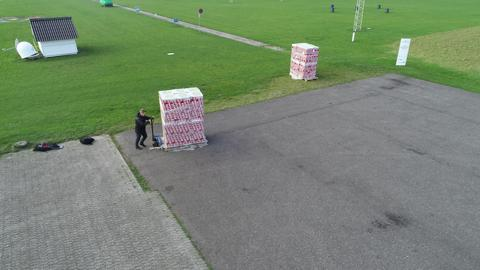RockwoolPallet: (156, 89, 206, 143)
